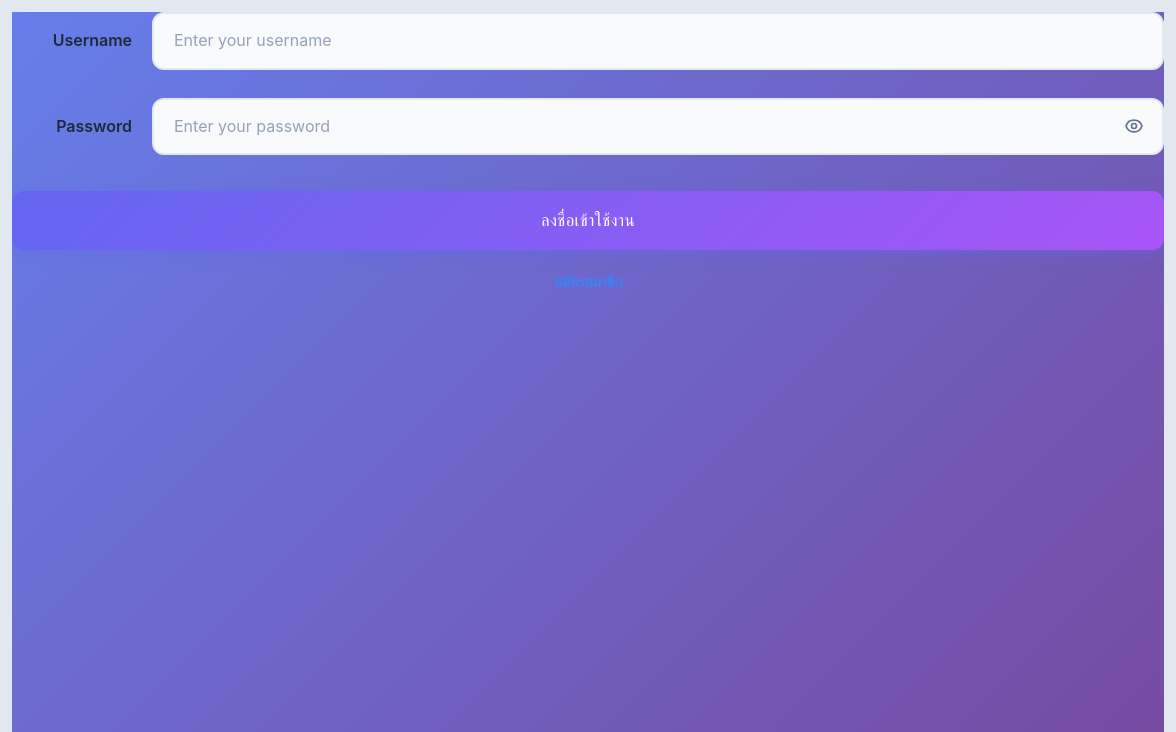
Test: LoginForm › clears error message on new submission
Type "testuser" into the field with id "login-username" at (658,41), box [152,12,1164,70]
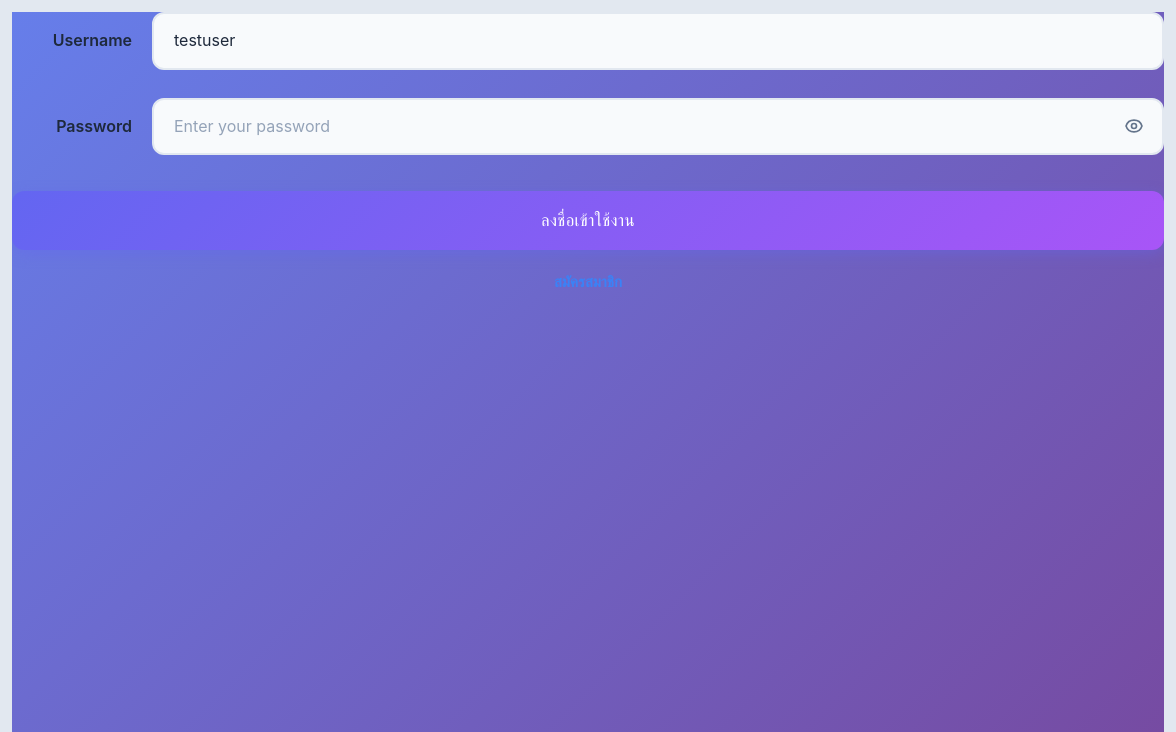
Type "wrongpass" into the password field with id "login-password" at (658,126), box [152,98,1164,155]
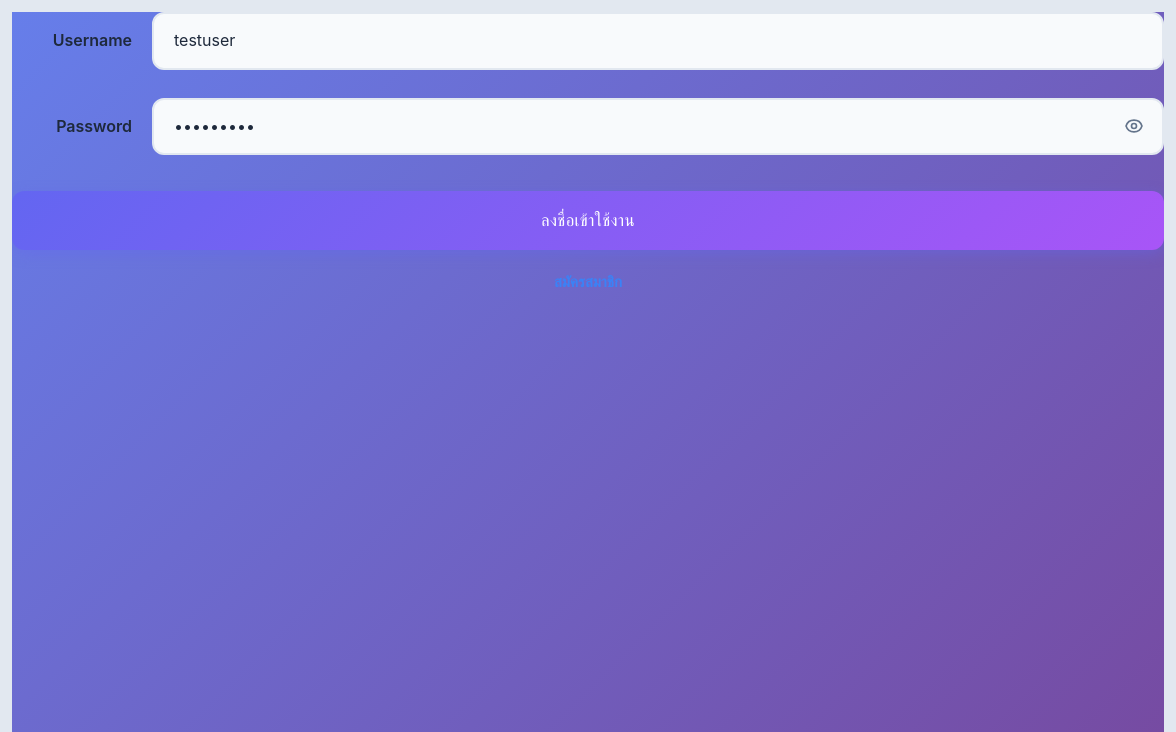
Submit the form, box [12,12,1164,294]
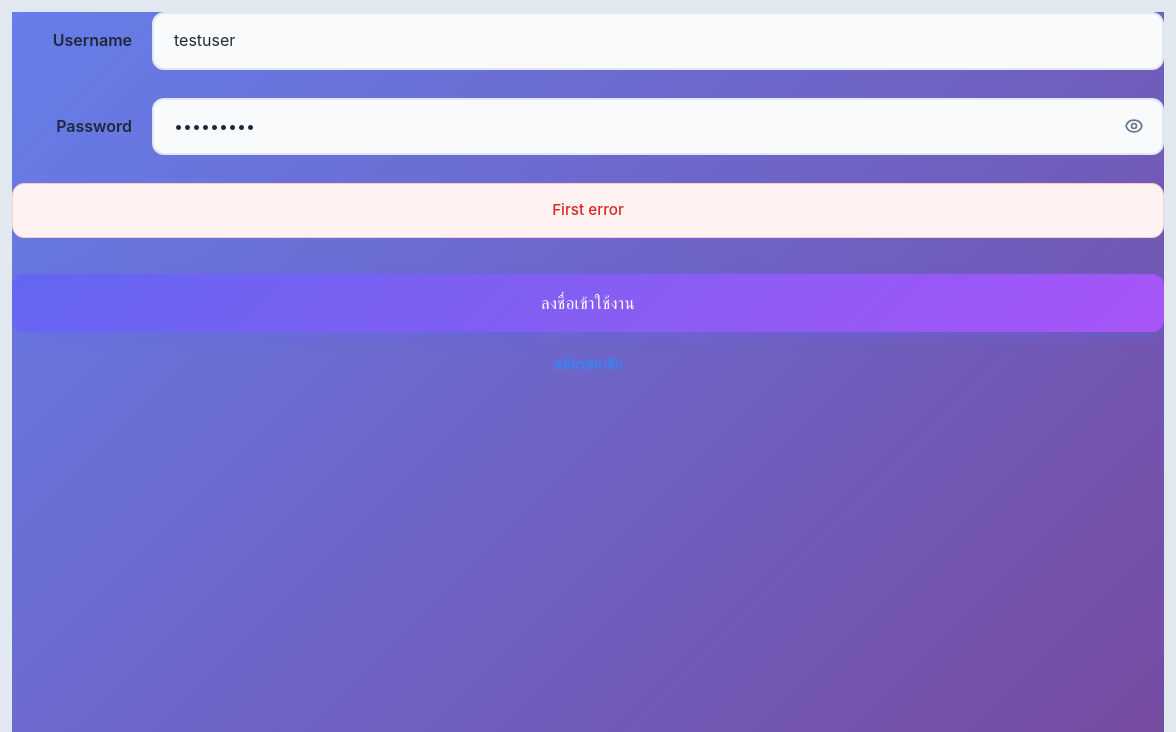
Expected: the text "First error" is shown, [12,183,1164,238]
Submit the form, box [12,12,1164,377]
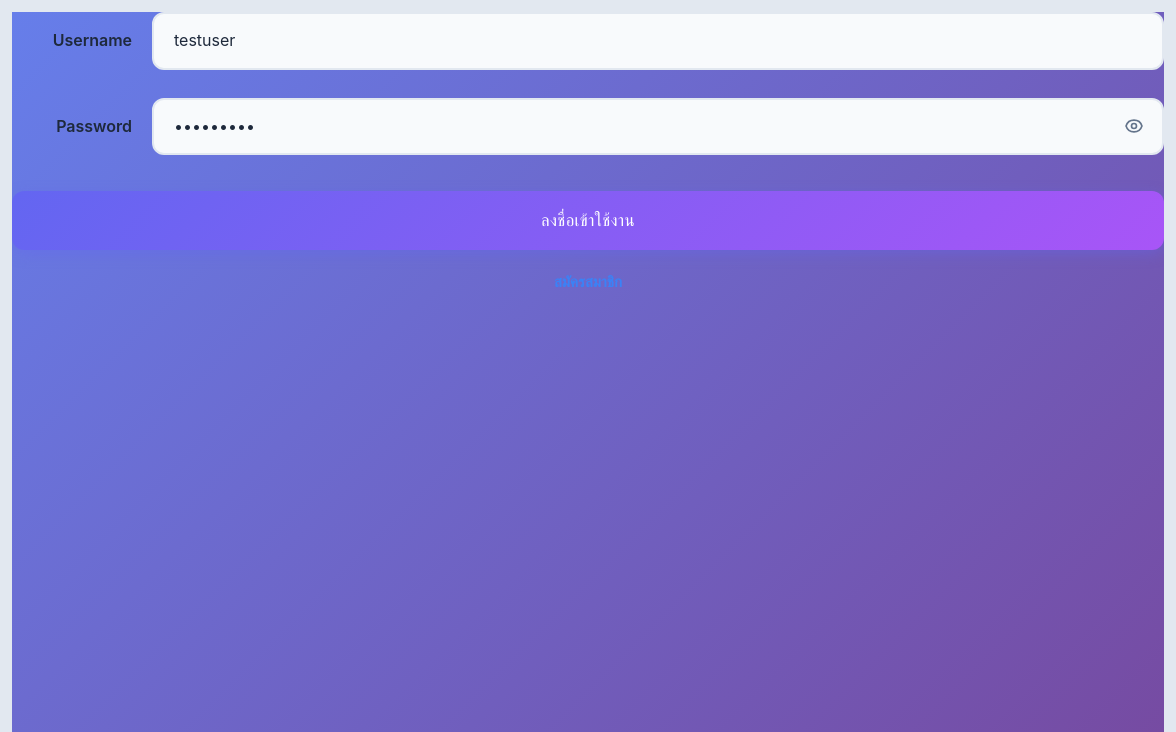
Expected: the text "First error" is gone
